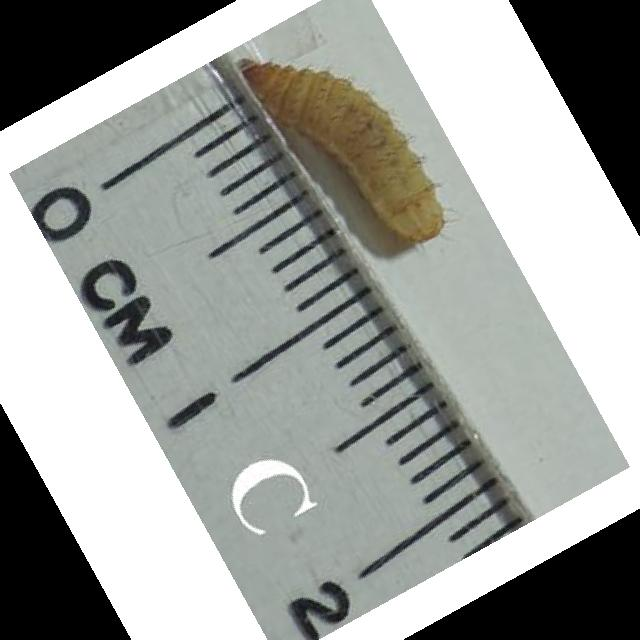Maggot: (239, 55, 448, 242)
